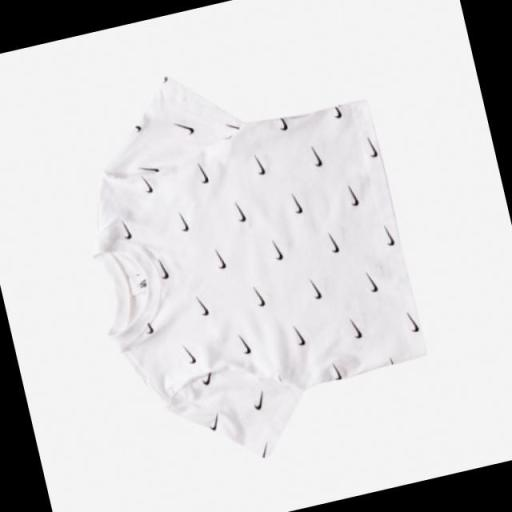Nike: (172, 208, 193, 237)
